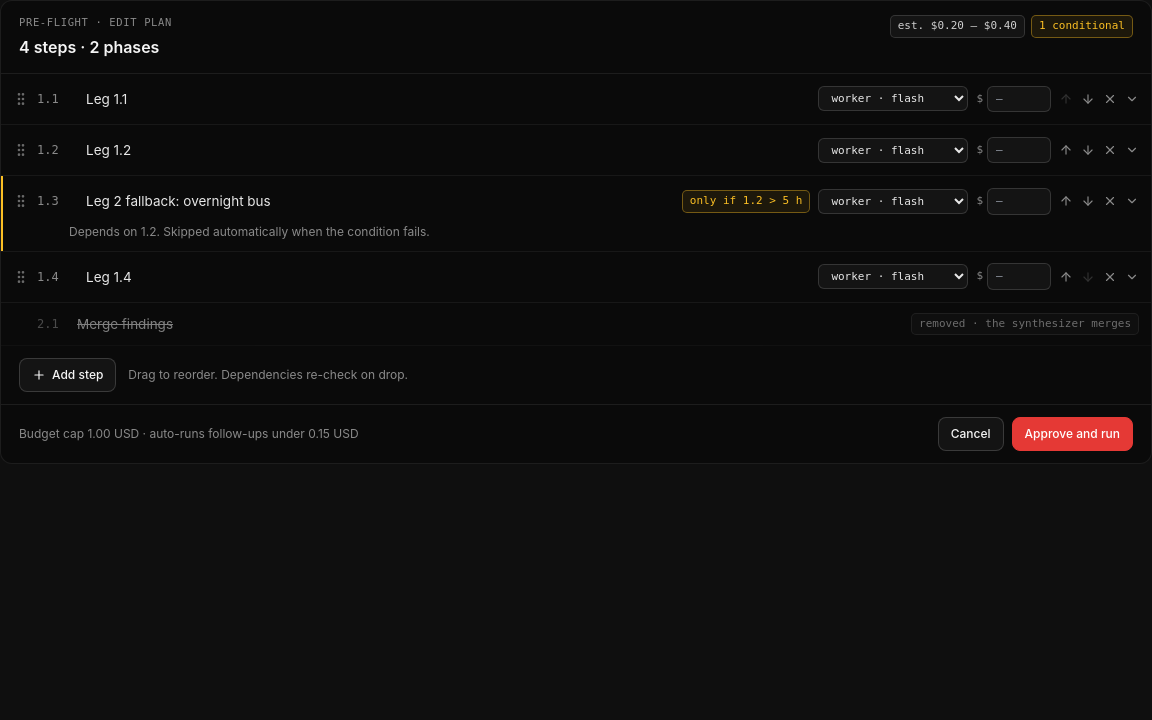
Test: PlanEditor › header, rows with model and budget, the conditional marker, the removed merge step, and a running estimate
Check: the text with test id "plan-editor-title" reads "4 steps · 2 phases", box [19,35,172,59]
Check: the element with test id "plan-editor-chips" reads "est. $0.20 – $0.40 1 conditional", box [890,15,1133,38]
Click the button "Add step" at (68, 375), box [19,358,116,392]
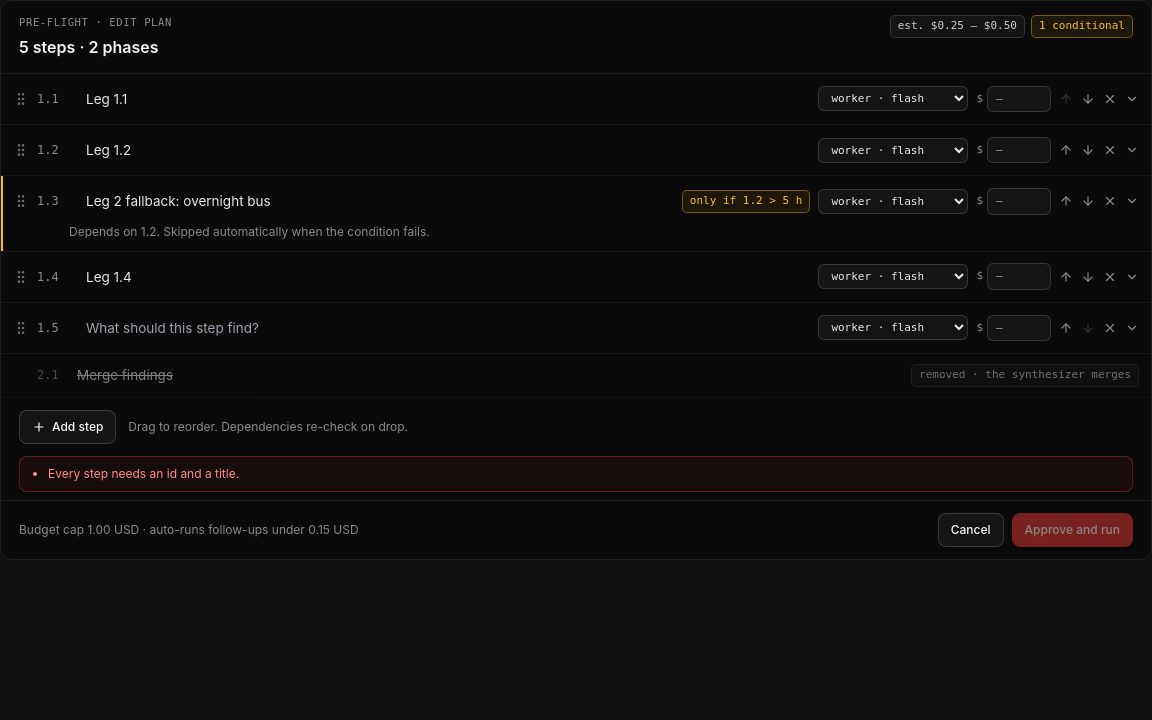
Check: the text with test id "plan-editor-title" reads "5 steps · 2 phases", box [19,35,172,59]
Check: the element with test id "plan-editor-chips" shows "est. $0.25 – $0.50", box [898,19,1017,32]
